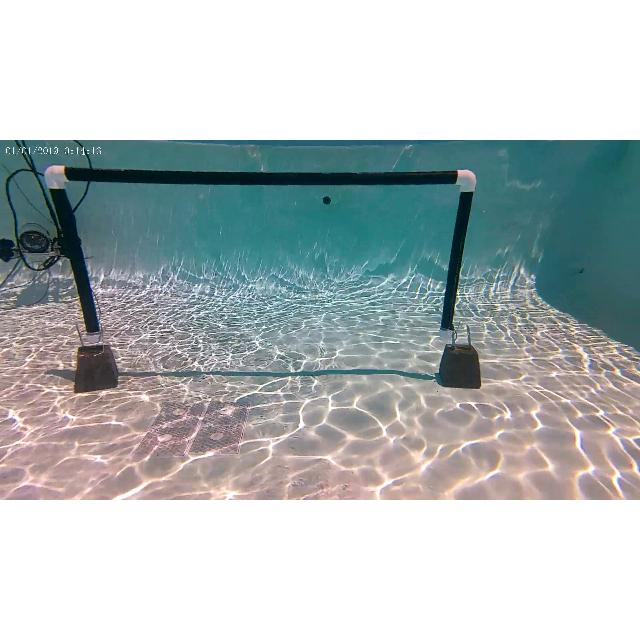prequal gate: (46, 166, 474, 344)
prequal gate leg l: (41, 161, 110, 359)
prequal gate leg r: (436, 164, 482, 352)
